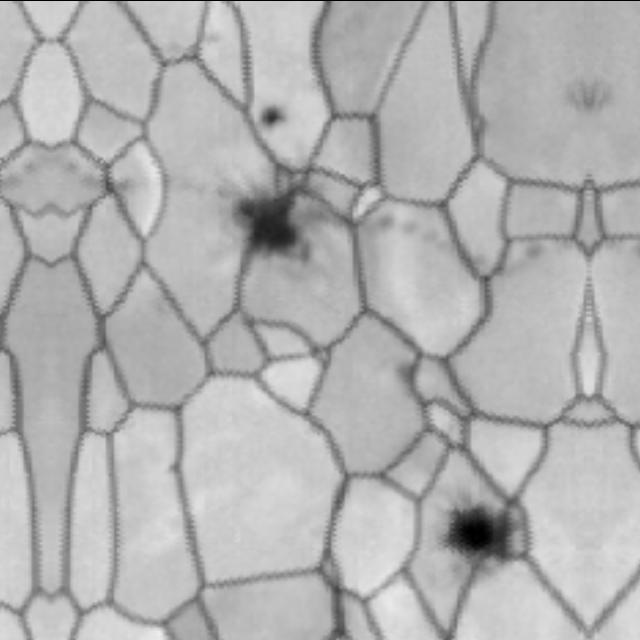good_void: (214, 153, 350, 287), (434, 497, 525, 565), (369, 338, 447, 417), (86, 149, 132, 205), (511, 234, 554, 276), (154, 448, 191, 484), (560, 71, 588, 112), (588, 71, 616, 112), (255, 101, 285, 133), (0, 153, 12, 202), (626, 236, 640, 265)
